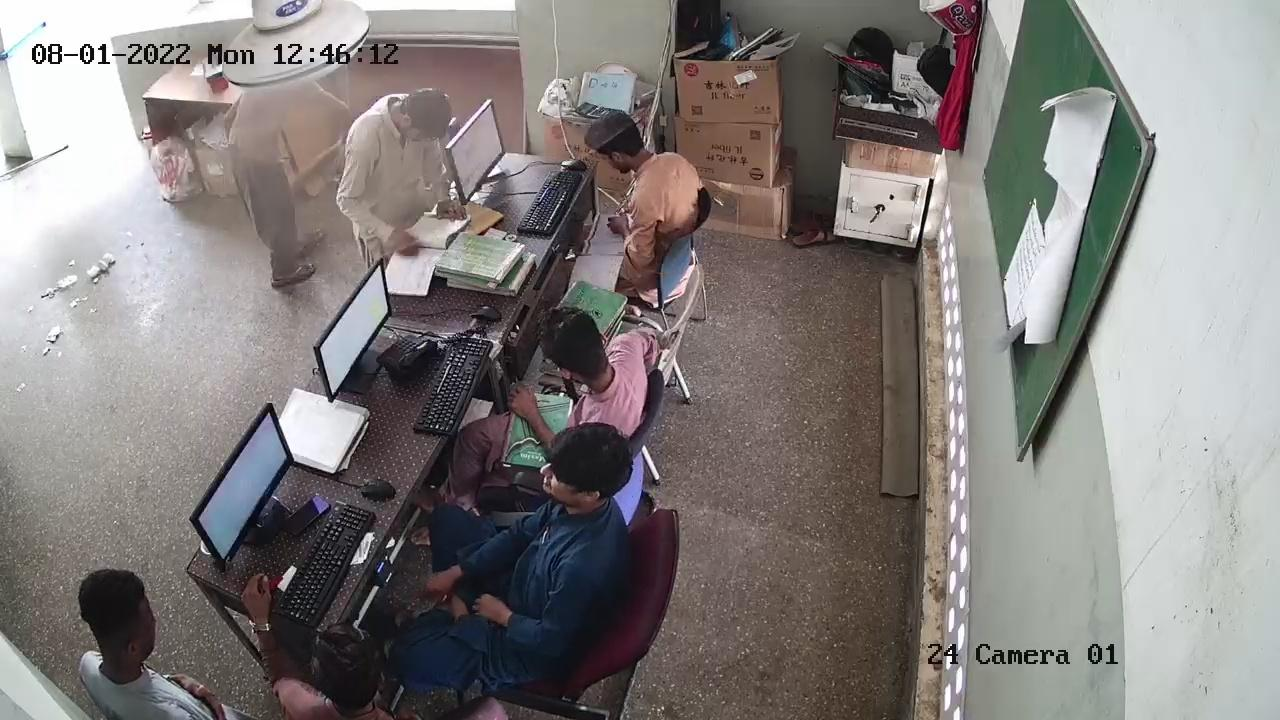person: (407, 418, 636, 683), (79, 573, 224, 720), (237, 588, 390, 720), (342, 88, 452, 257), (586, 110, 704, 263), (507, 293, 642, 425), (224, 90, 292, 297)
